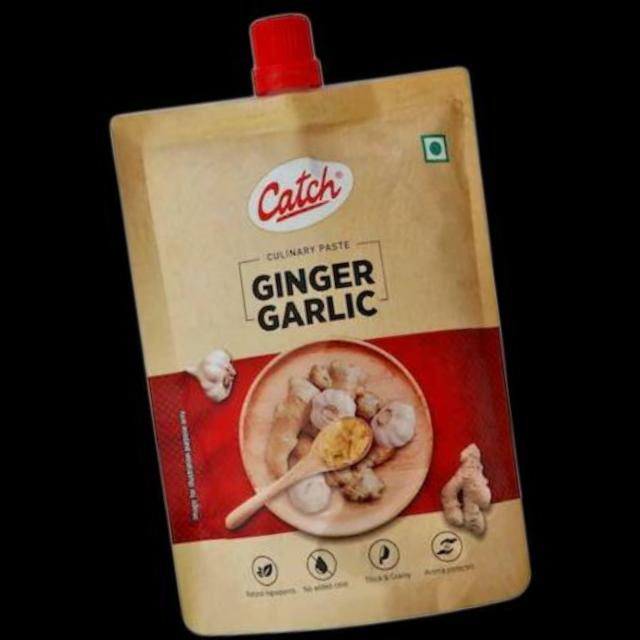Catch Ginger Garlic Paste 200 g: (93, 0, 549, 640)
